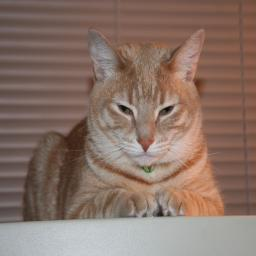catnose: (137, 138, 154, 152)
